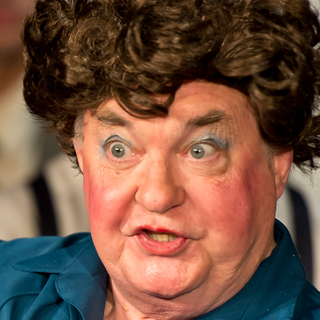eye: (98, 133, 143, 168), (182, 141, 223, 166)
